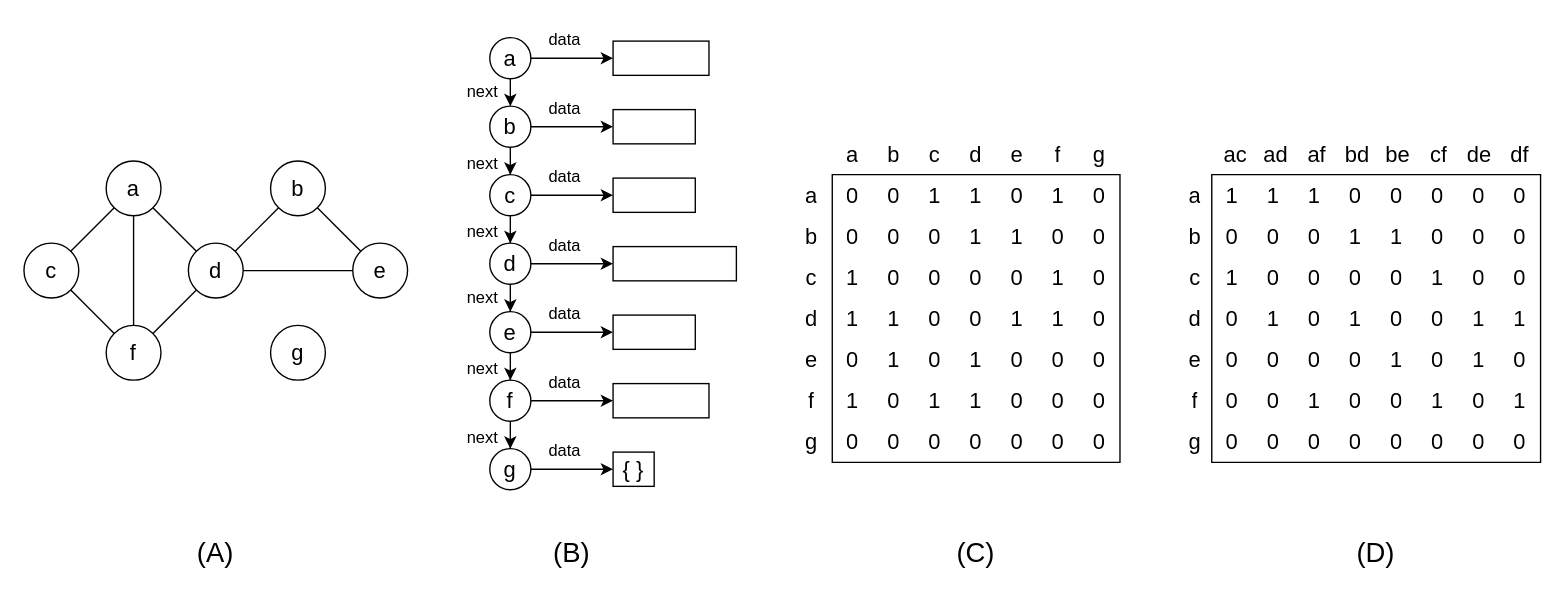
Image size: 1565x595. Some labels were removed from this diagram. The shapes that lost their labels are listed below. From the top down, each one's centre as x and y in pixels, then its label:
(660,57): { c, d, f }
(653,126): { d, e }
(653,194): { a, f }
(674,263): { a, b, e, f }
(653,331): { b, d }
(660,400): { a, c, d }
